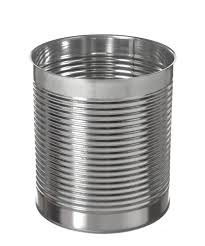can: (28, 35, 183, 236)
